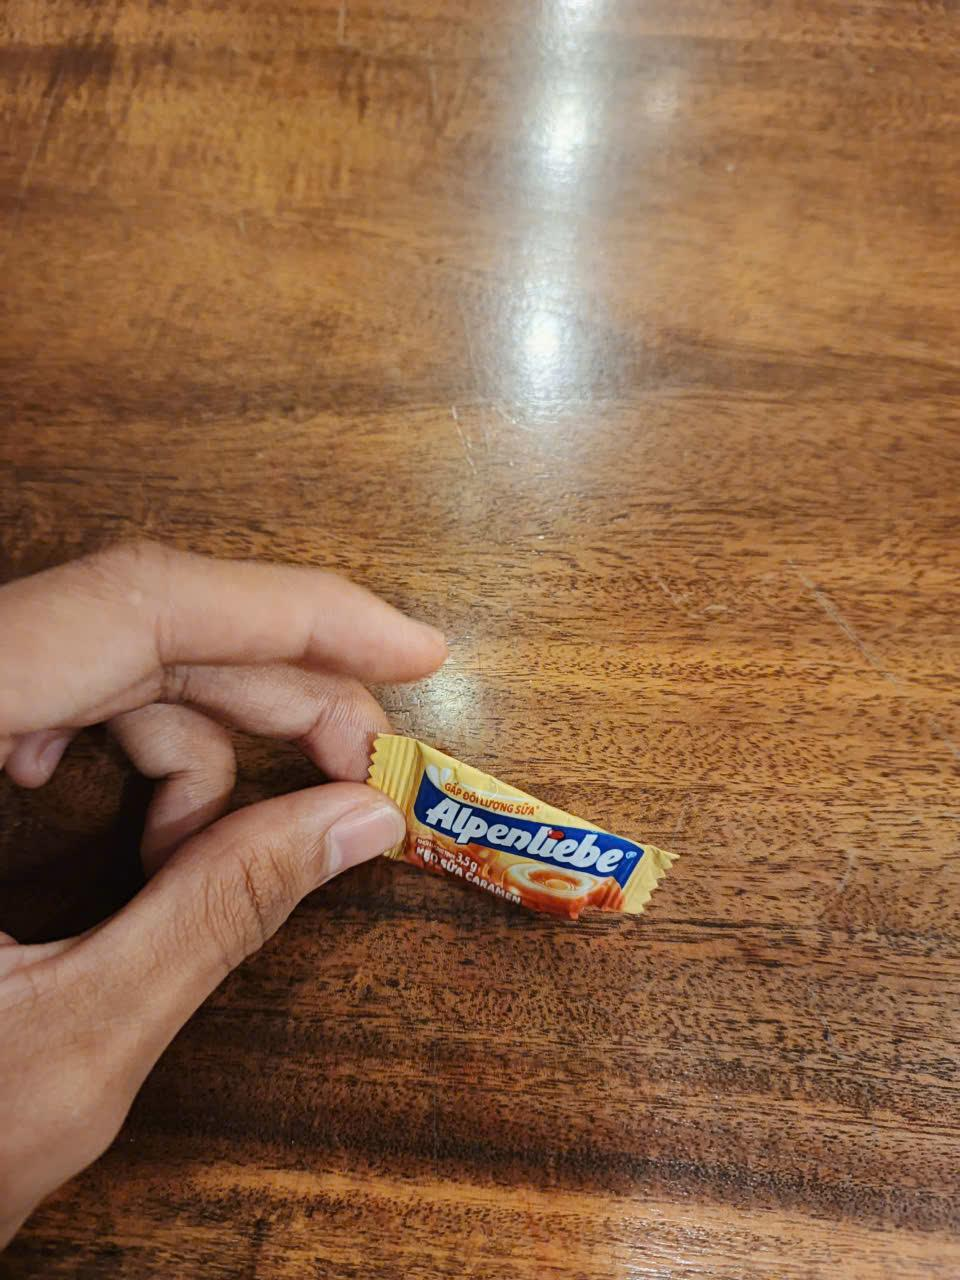Con lai: (360, 726, 676, 933)
